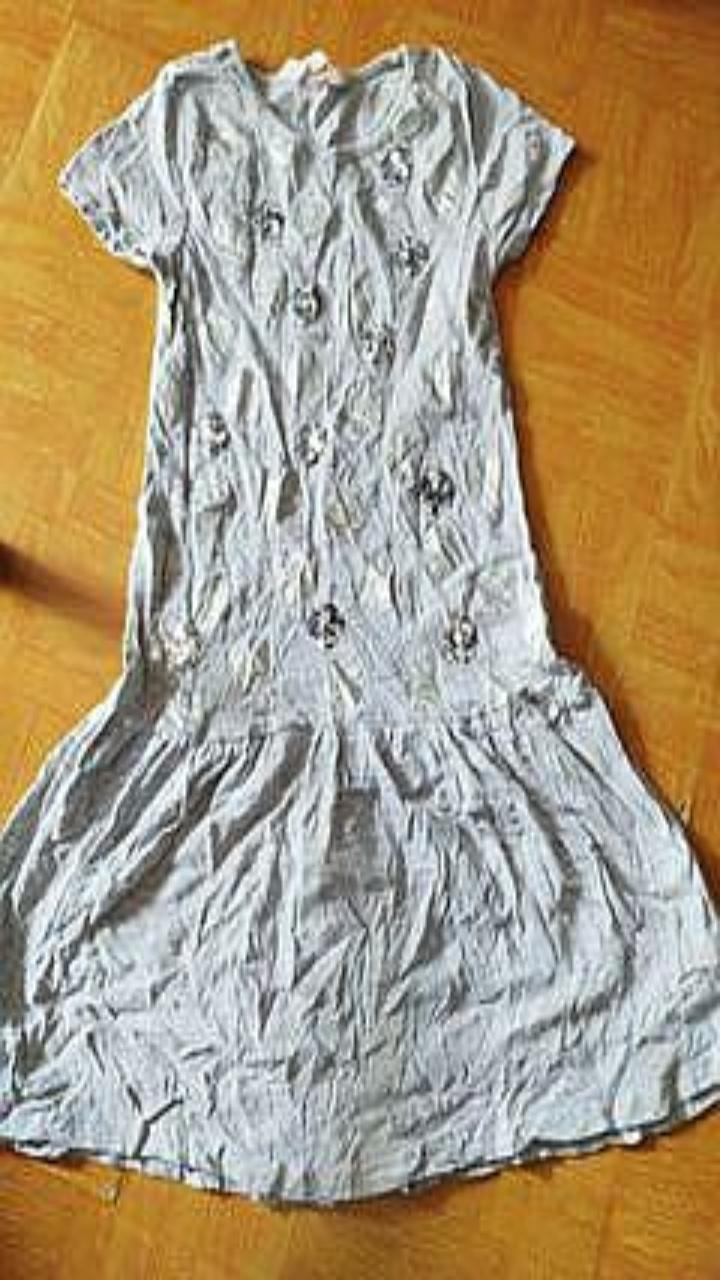Dresses: (0, 41, 719, 1202)
